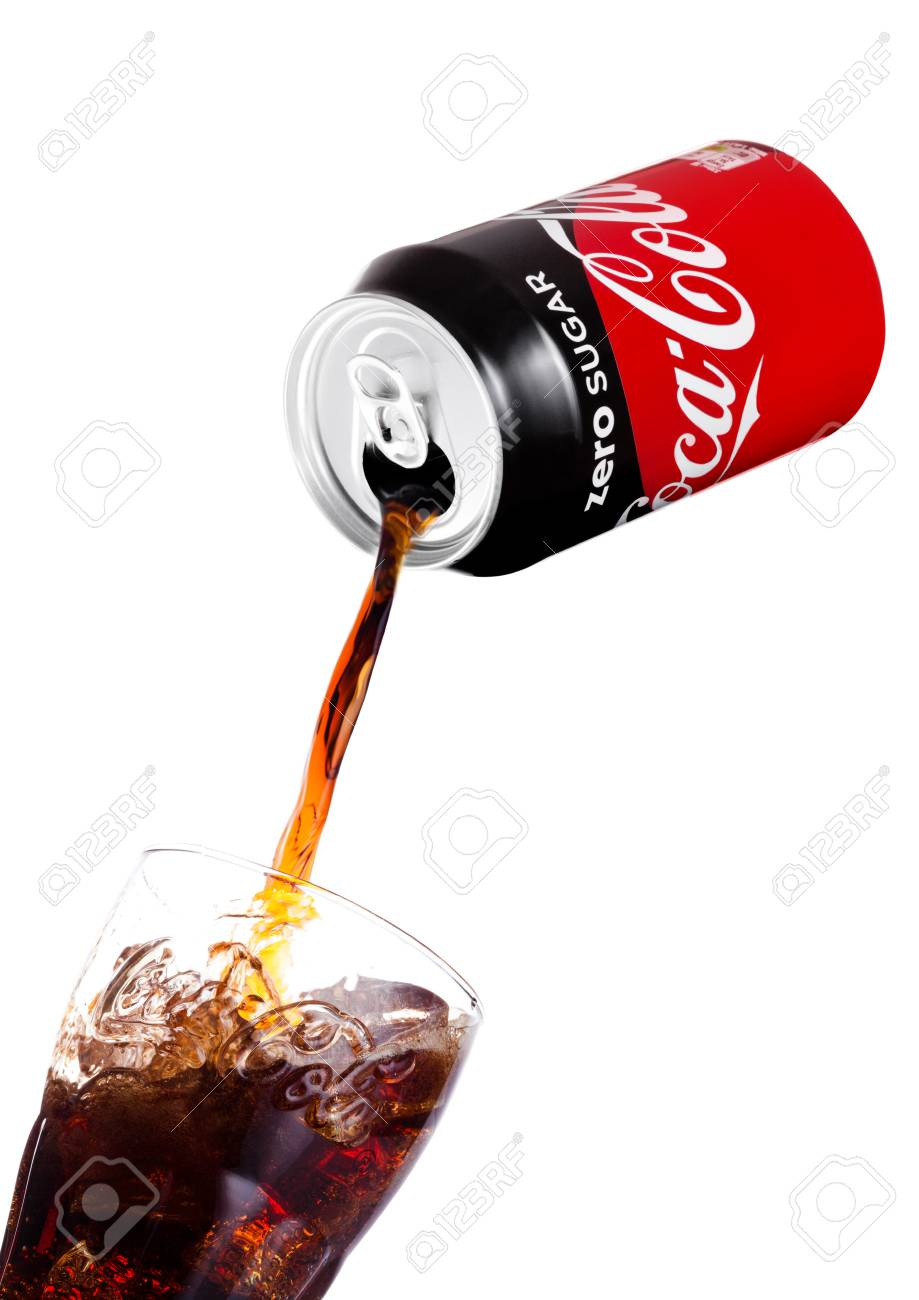can: (245, 117, 900, 591)
